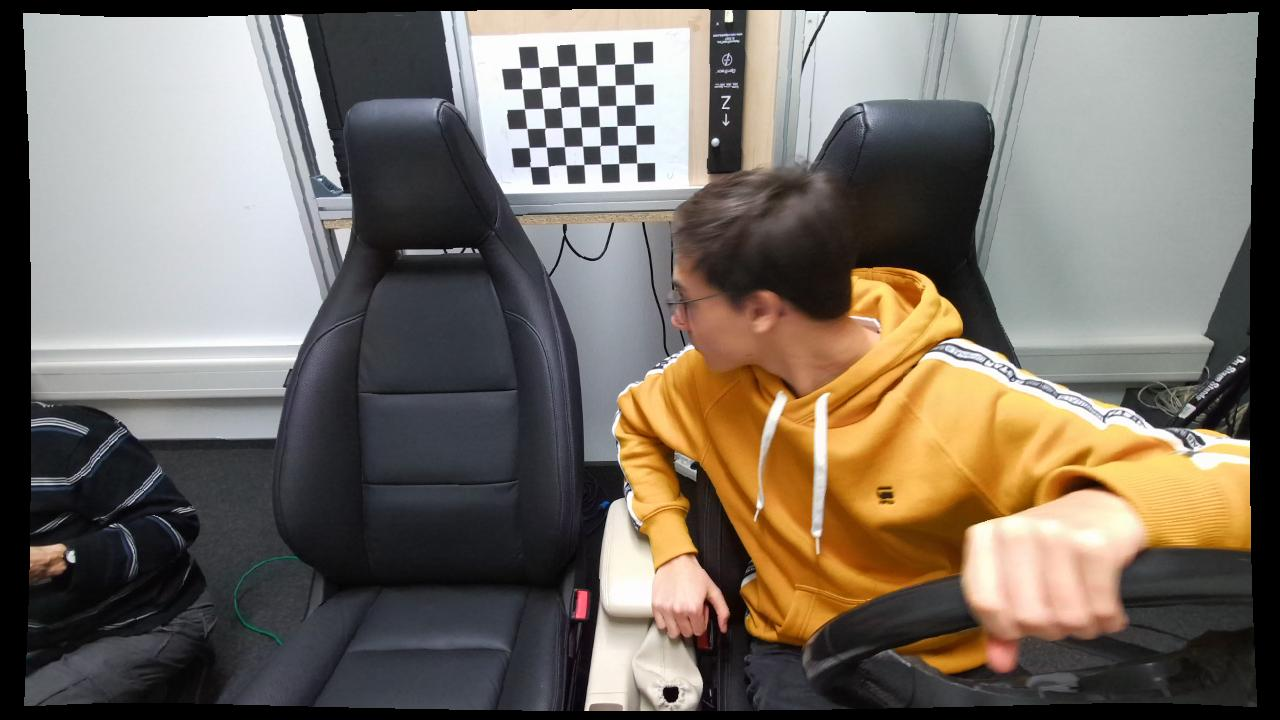Distracted: (609, 166, 1075, 712)
